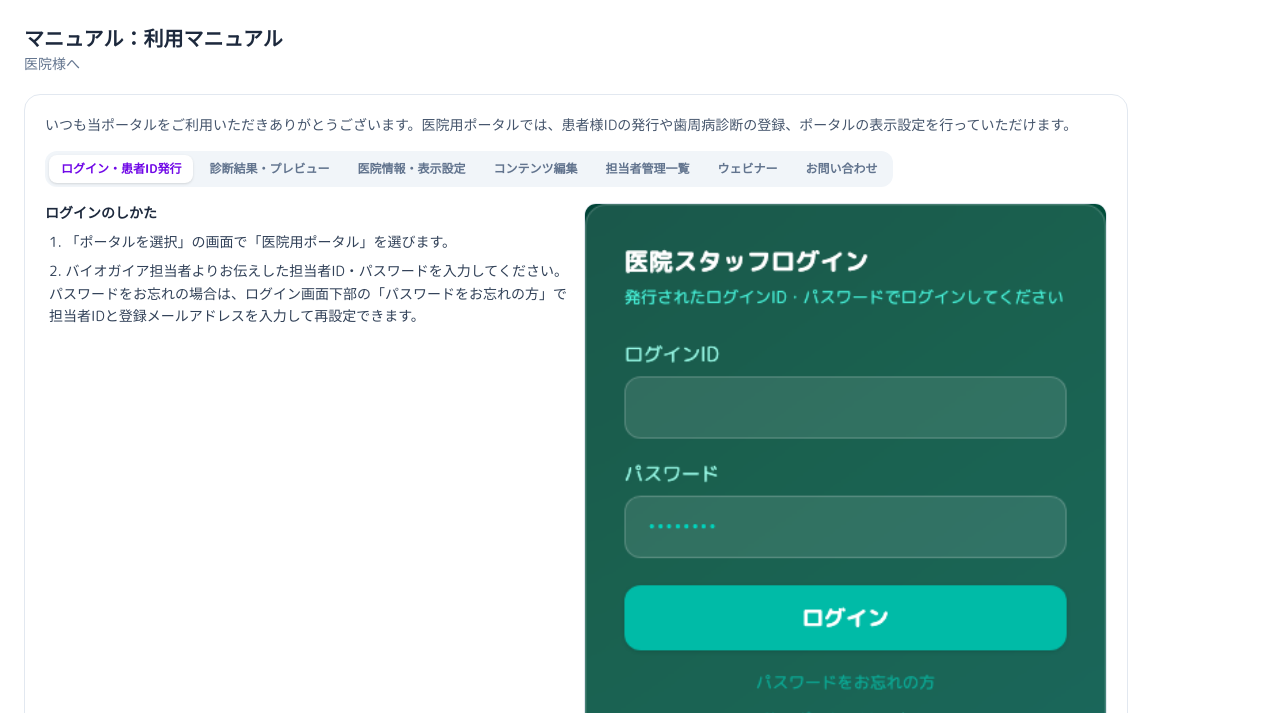
it: ManualPage › 利用マニュアル「医院様へ」のサブタブが切り替わる
Expected: the text "ログインのしかた" is shown, [45,203,157,222]
Click the button "医院情報・表示設定". click: (411, 169)
box: [345,155,477,183]
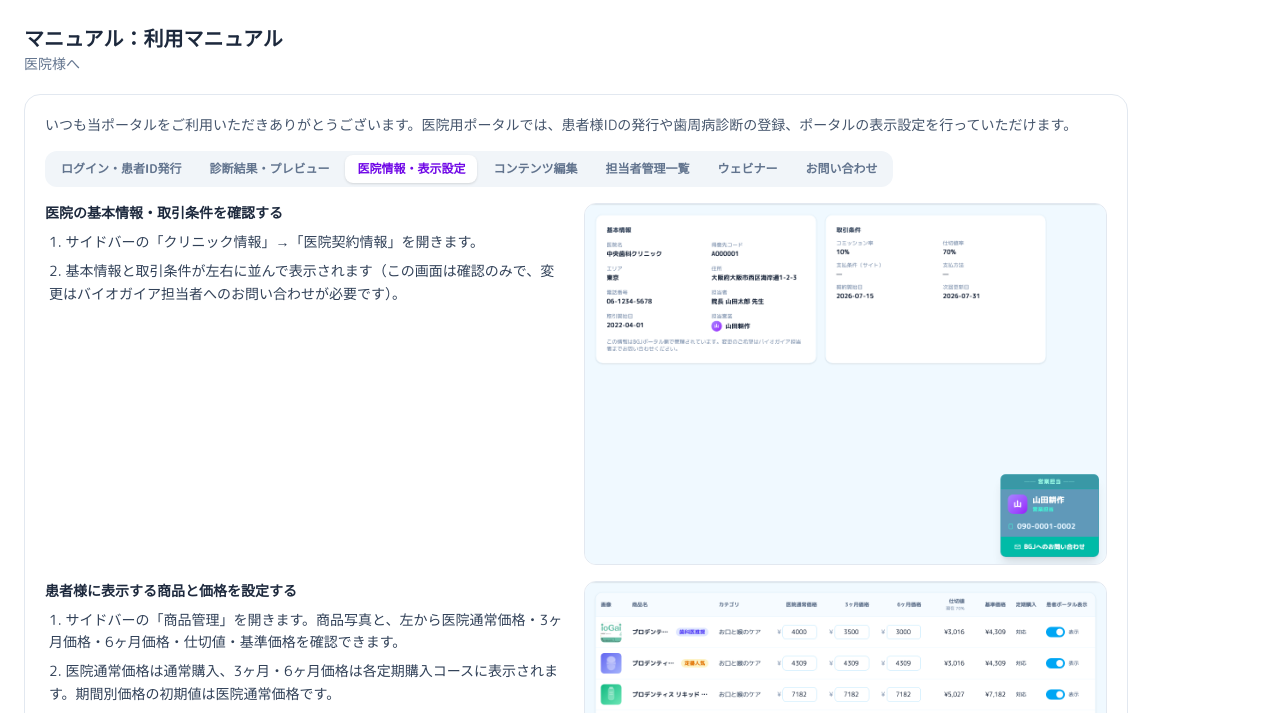
Result: the text "医院の基本情報・取引条件を確認する" is shown at [45,203,283,222]
Result: the text "ログインのしかた" is gone
